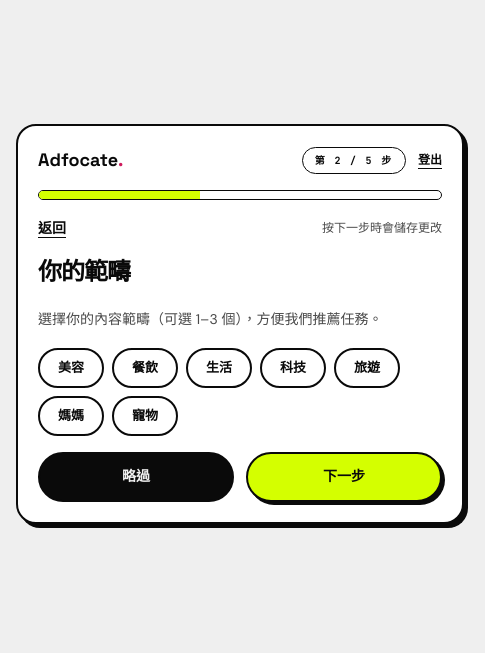
Test: Onboarding wizard › uses an ahead-of-request server step for rendered and cached progress
The width and height of the screenshot is (485, 653).
Click the button "下一步".
click(344, 477)  # box [246,452,442,502]
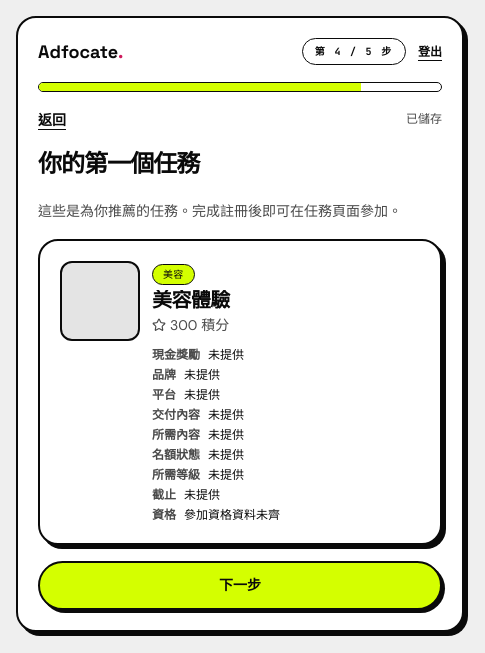
Now the heading "你的第一個任務" is shown, box [38,148,199,179]
